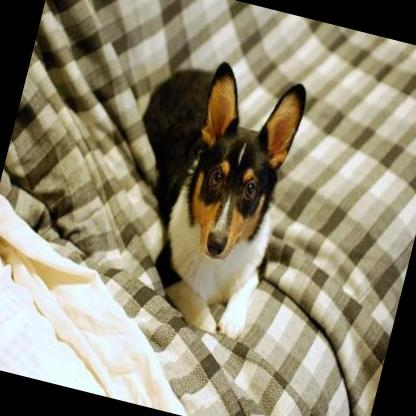Pembroke: (92, 40, 310, 340)
